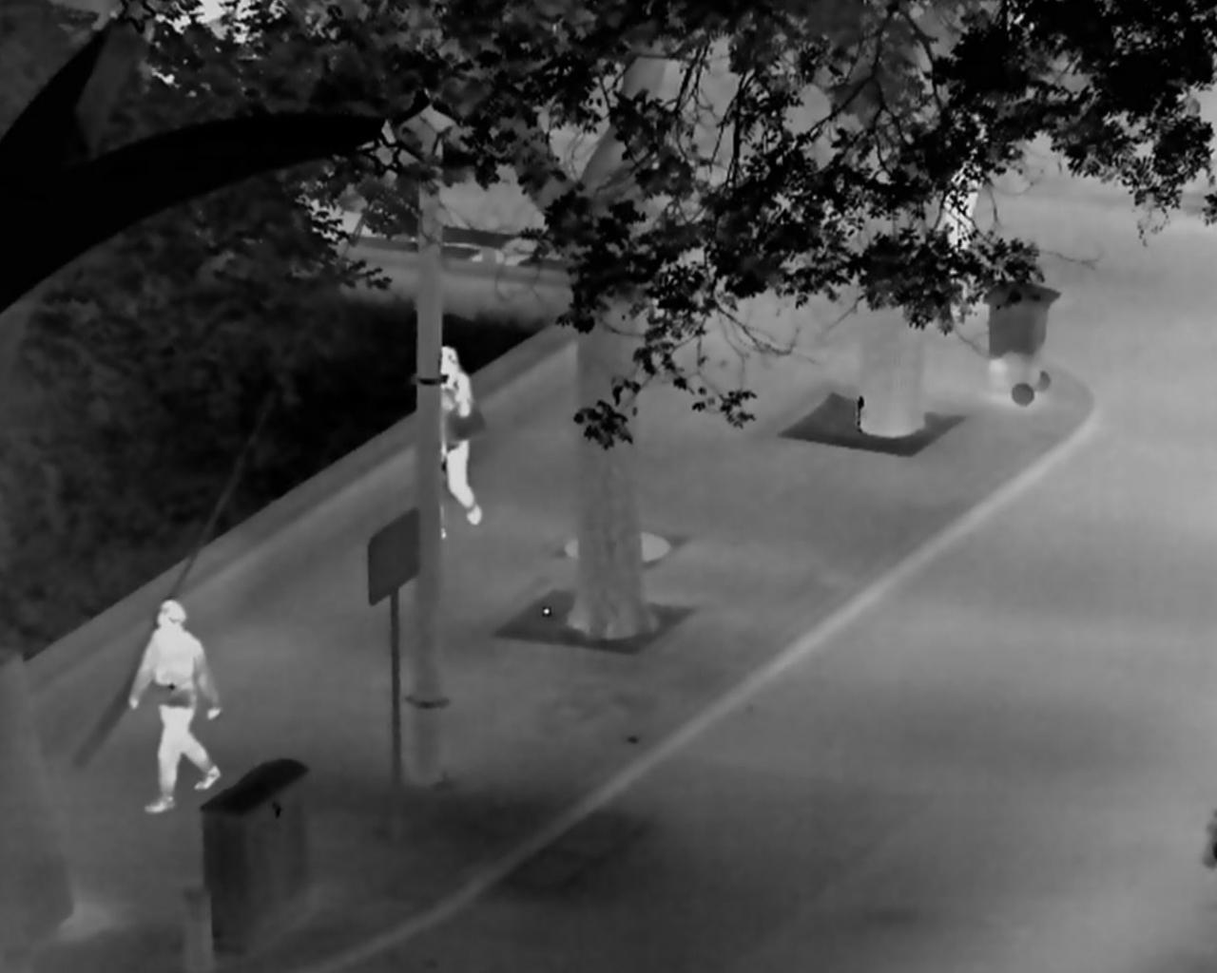person: (127, 598, 223, 813), (439, 342, 487, 540), (934, 102, 987, 275)
